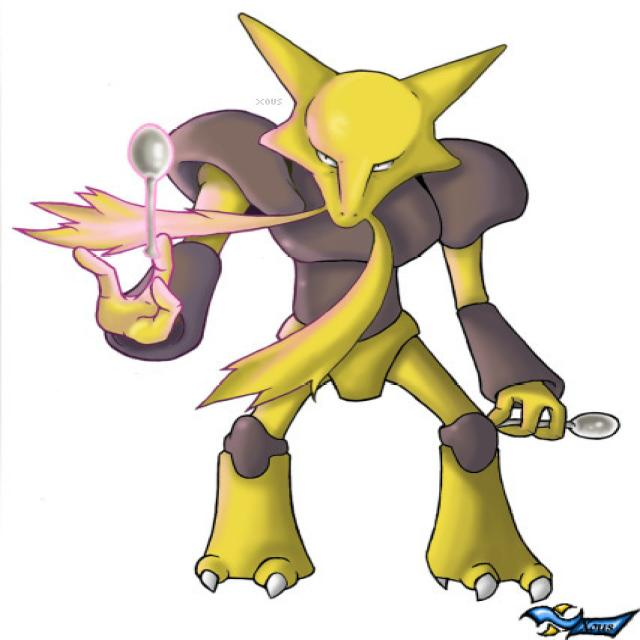Alakazam: (110, 65, 574, 601)
